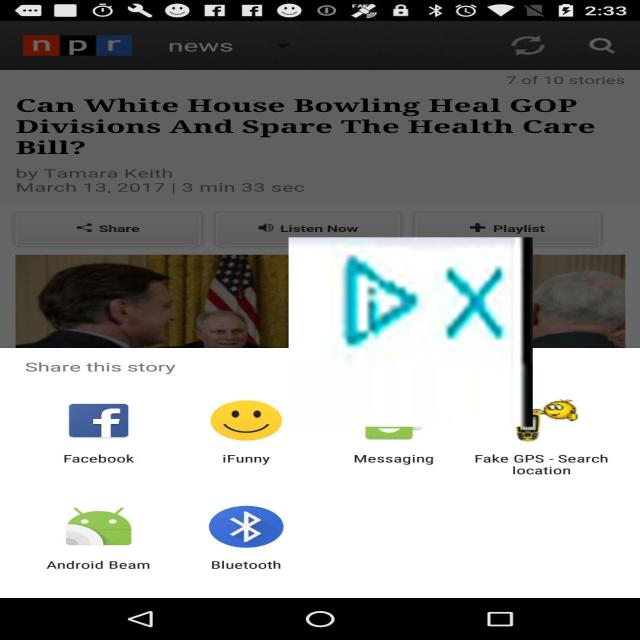sneaking: (288, 237, 532, 427)
